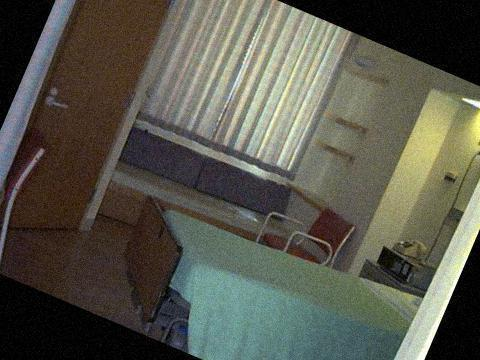Puerta: (0, 0, 188, 239)
